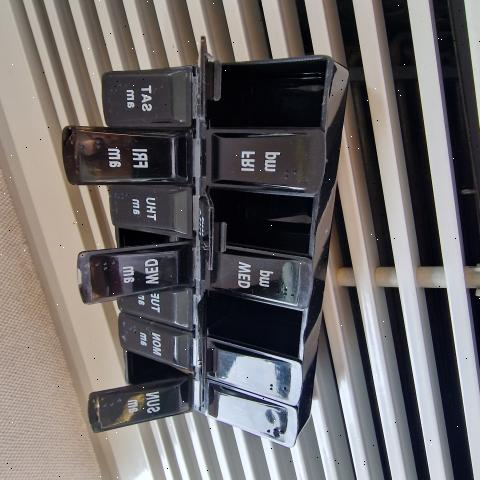Open: (202, 35, 329, 132), (212, 190, 316, 266), (205, 290, 300, 356), (79, 222, 188, 255), (123, 353, 193, 384)
